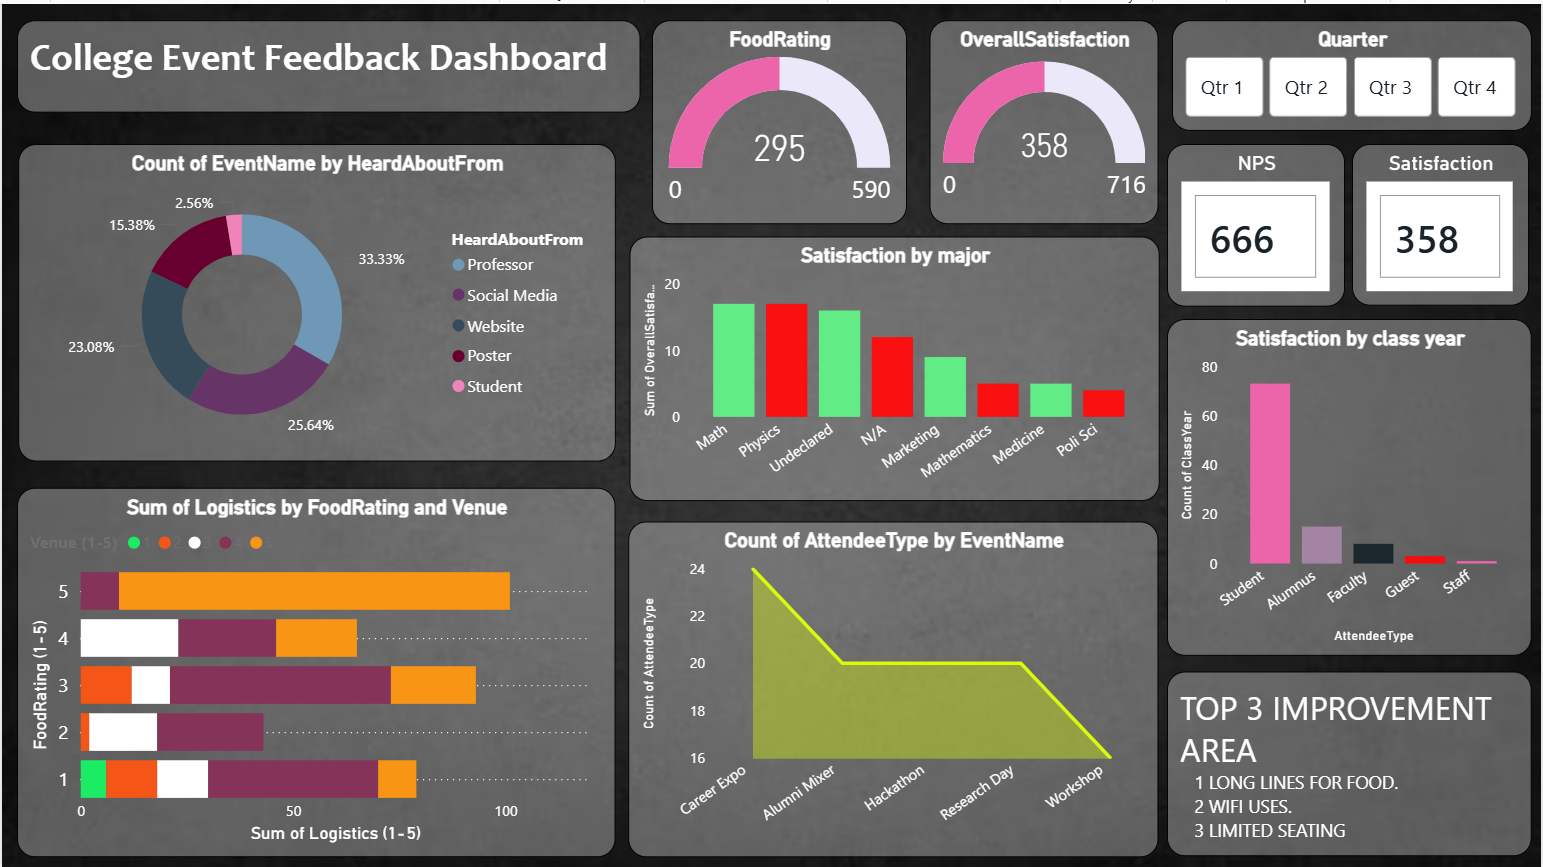

What the dashboard file says about the page in this screenshot:
{"tool":"powerbi","page":{"name":"Page 1","canvas":[1280,720],"ordinal":0},"visuals":[{"type":"gauge","title":"OverallSatisfaction ","fields":{"Y":["Sum(give minimum 100  raw daata for.OverallSatisfaction (1-5))"]},"box":[770.9,14,190.7,169.8],"z":0},{"type":"barChart","title":"Sum of Logistics by FoodRating and Venue","fields":{"Y":["Sum(give minimum 100  raw daata for.Logistics (1-5))"],"Series":["give minimum 100  raw daata for.Venue (1-5)"],"Category":["give minimum 100  raw daata for.FoodRating (1-5)"]},"box":[12.8,402.3,497.7,307],"z":1000},{"type":"columnChart","title":"Satisfaction by class year ","fields":{"Category":["give minimum 100  raw daata for.AttendeeType"],"Y":["CountNonNull(give minimum 100  raw daata for.ClassYear)"]},"box":[968.8,262.1,303.3,279.9],"z":2000},{"type":"textbox","box":[12.8,14,518.6,76.7],"z":3000},{"type":"advancedSlicerVisual","fields":{"Values":["give minimum 100  raw daata for.EventDate.Variation.Date Hierarchy.Quarter"]},"box":[972.9,13.7,299.1,91.9],"z":4000},{"type":"textbox","box":[968.6,554.7,303.5,153.5],"z":5000},{"type":"donutChart","fields":{"Category":["give minimum 100  raw daata for.HeardAboutFrom"],"Y":["CountNonNull(give minimum 100  raw daata for.EventName)"]},"box":[14,116.3,496.5,264],"z":6000},{"type":"cardVisual","title":"Satisfaction","fields":{"Data":["Sum(give minimum 100  raw daata for.OverallSatisfaction (1-5))"]},"box":[1122.5,116.6,146.8,134.5],"z":7000},{"type":"cardVisual","title":"NPS","fields":{"Data":["Sum(give minimum 100  raw daata for.NPS (0-10))"]},"box":[968.6,116.3,147.7,134.9],"z":8000},{"type":"lineClusteredColumnComboChart","title":"Satisfaction by major ","fields":{"Y":["Sum(give minimum 100  raw daata for.OverallSatisfaction (1-5))"],"Category":["give minimum 100  raw daata for.Major"]},"box":[522.1,193,440.7,219.8],"z":9000},{"type":"lineChart","fields":{"Category":["give minimum 100  raw daata for.EventName"],"Y":["CountNonNull(give minimum 100  raw daata for.AttendeeType)"]},"box":[521,430,441,279],"z":10000},{"type":"gauge","title":" FoodRating ","fields":{"Y":["Sum(give minimum 100  raw daata for.FoodRating (1-5))"]},"box":[540.7,14,211.6,169.8],"z":11000}]}

Visuals, with their boxes in screenshot pixels (x1, y1, x2, y2), scaled from the page's 1280x720 canvas onto the 1543x867 screenshot:
"OverallSatisfaction " gauge: 929,17,1159,221
"Sum of Logistics by FoodRating and Venue" barChart: 15,484,615,854
"Satisfaction by class year " columnChart: 1168,316,1533,653
textbox: 15,17,641,109
advancedSlicerVisual - give minimum 100  raw daata for.EventDate.Variation.Date Hierarchy.Quarter: 1173,16,1533,127
textbox: 1168,668,1533,853
donutChart - give minimum 100  raw daata for.HeardAboutFrom x CountNonNull(give minimum 100  raw daata for.EventName): 17,140,615,458
"Satisfaction" cardVisual: 1353,140,1530,302
"NPS" cardVisual: 1168,140,1346,302
"Satisfaction by major " lineClusteredColumnComboChart: 629,232,1161,497
lineChart - give minimum 100  raw daata for.EventName x CountNonNull(give minimum 100  raw daata for.AttendeeType): 628,518,1160,854
" FoodRating " gauge: 652,17,907,221
